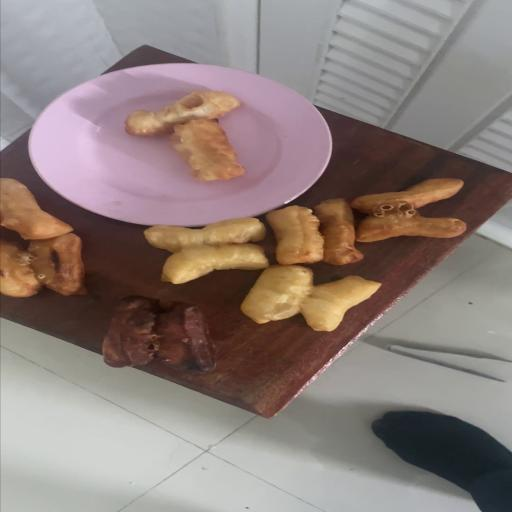street_burnt_defect: (100, 297, 214, 371), (1, 236, 86, 298)
street_golden_good: (143, 218, 270, 284)
